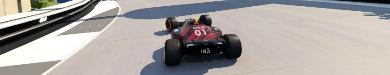Car: (163, 14, 242, 65)
Solid White and black: (0, 0, 120, 74)
obstacles-Borders: (0, 0, 31, 18)
